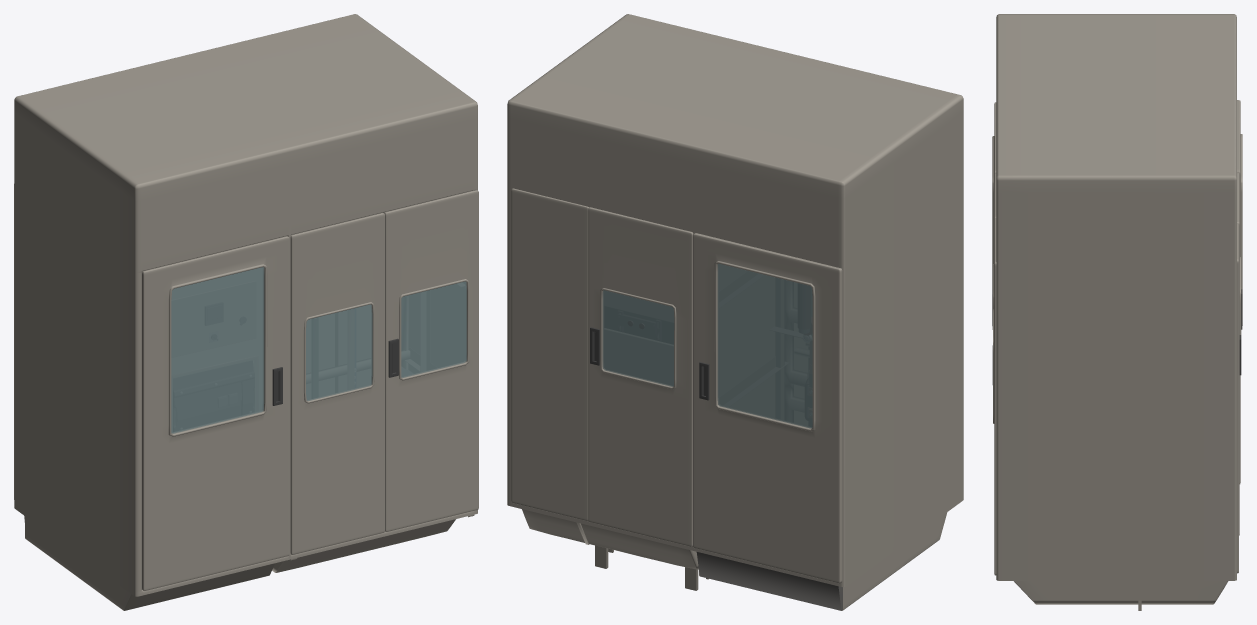
File: SUBESTACIÓN.fbx
3 views of the same model, side by side, from view 1: azimuth 30°, elevation 25°; view 2: azimuth 150°, elevation 25°; view 3: azimuth 270°, elevation 25° (orthographic).
Parts seen in each view (by area): view 1: Subestación, Puerta_Principal, Puerta_Doble_1, Puerta_Doble_2, Ventana (×3); view 2: Subestación, Puerta_Principal2, Puerta_Doble_3, Puerta_Doble_4, Ventana (×2); view 3: Subestación, Puerta_Doble_2, Puerta_Principal2, Puerta_Doble_3, Puerta_Doble_4, Puerta_Principal.
Boxes of the visible parts, box(x1,y1,x2,y2) form: Subestación: box(14, 14, 477, 610); Puerta_Principal: box(142, 236, 289, 590); Puerta_Doble_1: box(290, 212, 384, 554); Puerta_Doble_2: box(383, 190, 478, 531); Ventana (×3): box(171, 267, 466, 433); Subestación: box(507, 14, 963, 610); Puerta_Principal2: box(693, 233, 842, 583); Puerta_Doble_3: box(588, 207, 693, 546); Puerta_Doble_4: box(511, 188, 588, 520); Ventana (×2): box(602, 263, 812, 428); Subestación: box(996, 14, 1236, 604); Puerta_Doble_2: box(992, 218, 996, 575); Puerta_Principal2: box(1237, 100, 1242, 483); Puerta_Doble_3: box(1237, 172, 1241, 535); Puerta_Doble_4: box(1237, 223, 1238, 573); Puerta_Principal: box(992, 102, 996, 329).
Size of what is drawn, in the model's own units: 113 by 147 by 72.74.
